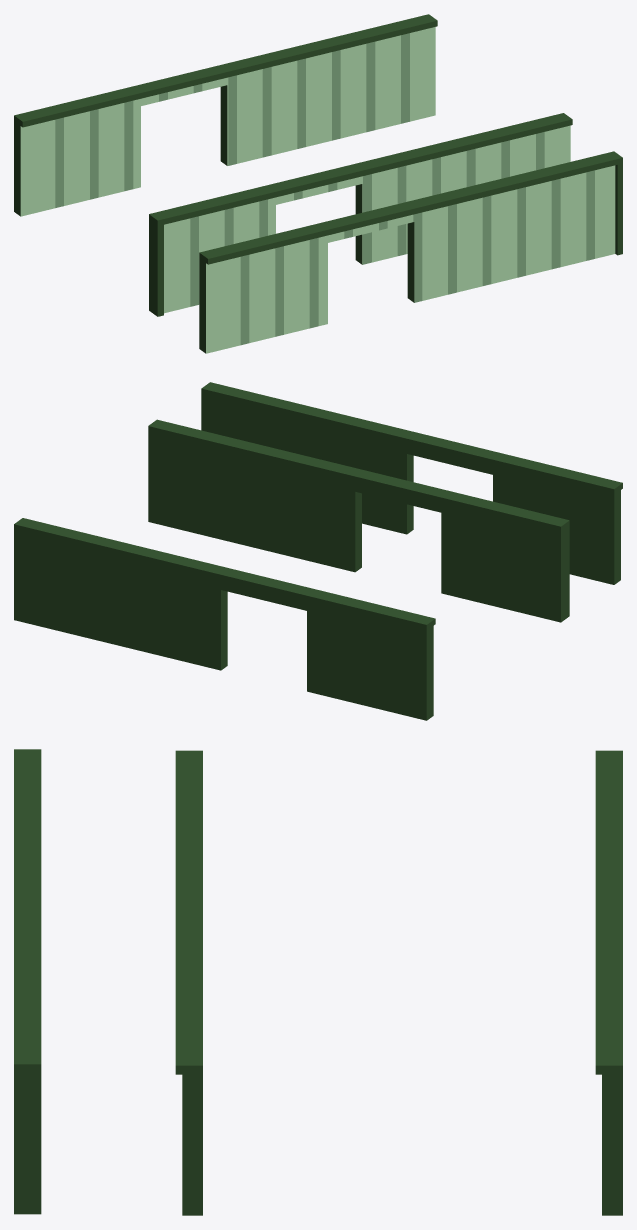
The model's file is WallsDoor_House.fbx.
3 renders of one model, top to bottom at view 1: azimuth 30°, elevation 25°; view 2: azimuth 150°, elevation 25°; view 3: azimuth 270°, elevation 25°, orthographic. The views are drawn at different scales.
Parts seen in each view (by area): view 1: Right_Wall.001, Cube.004, Left_Wall.004; view 2: Left_Wall.004, Cube.004, Right_Wall.001; view 3: Right_Wall.001, Cube.004, Left_Wall.004.
Boxes of the visible parts, x1,y1,x2,y2 form: Right_Wall.001: (199, 151, 622, 353); Cube.004: (14, 14, 437, 216); Left_Wall.004: (149, 113, 572, 316); Left_Wall.004: (148, 419, 569, 622); Cube.004: (14, 518, 435, 720); Right_Wall.001: (201, 382, 622, 584); Right_Wall.001: (14, 749, 41, 1214); Cube.004: (595, 750, 622, 1215); Left_Wall.004: (175, 750, 202, 1215).
Bounding box in the file's own units: 9.04 × 2 × 7.36.
